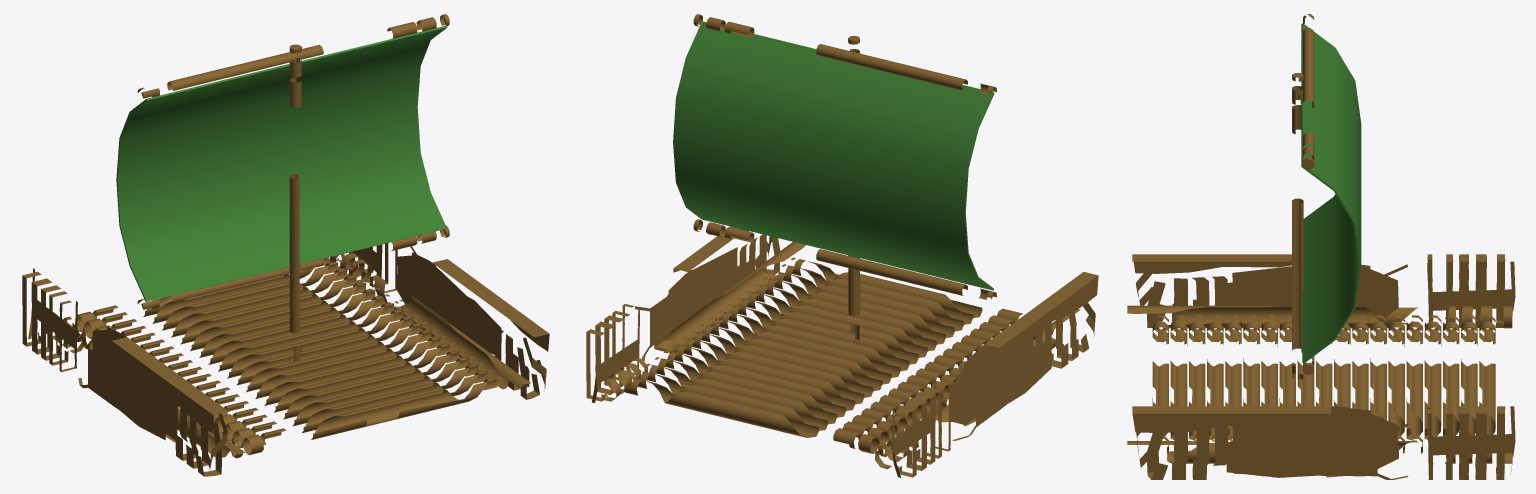
Rendered from Model Textured_Builder.fbx.
The picture shows the model from 3 angles, left to right: view 1: azimuth 30°, elevation 25°; view 2: azimuth 150°, elevation 25°; view 3: azimuth 270°, elevation 25°; orthographic projection. The views are drawn at different scales.
Visible parts, largest first — view 1: Plane002, Builder_Wood, Builder_Wood 005, Builder_Wood 4, Buuilder_Woodn3, Builder_Wood 2, Builder_Wood 003; view 2: Plane002, Builder_Wood, Builder_Wood 005, Builder_Wood 4, Builder_Wood 003, Builder_Wood 2, Buuilder_Woodn3; view 3: Builder_Wood, Builder_Wood 4, Builder_Wood 005, Plane002, Buuilder_Woodn3, Builder_Wood 2.
Part boxes in pixels (x1,y1,x2,y2): Plane002: (116,25,447,301); Builder_Wood: (63,257,501,458); Builder_Wood 005: (22,268,244,476); Builder_Wood 4: (328,243,549,399); Buuilder_Woodn3: (289,44,301,362); Builder_Wood 2: (137,14,449,98); Builder_Wood 003: (137,225,449,309); Plane002: (673,21,994,290); Builder_Wood: (624,257,1054,456); Builder_Wood 005: (875,272,1098,477); Builder_Wood 4: (586,226,805,402); Builder_Wood 003: (693,219,996,299); Builder_Wood 2: (693,14,996,94); Buuilder_Woodn3: (848,35,859,343); Builder_Wood: (1152,315,1495,453); Builder_Wood 4: (1127,406,1515,479); Builder_Wood 005: (1127,254,1515,328); Plane002: (1301,23,1361,363); Buuilder_Woodn3: (1292,73,1303,380); Builder_Wood 2: (1303,14,1314,169).
Size of the model in its own units: 74.47 by 70.77 by 77.96.
2 materials, 2 textured.
